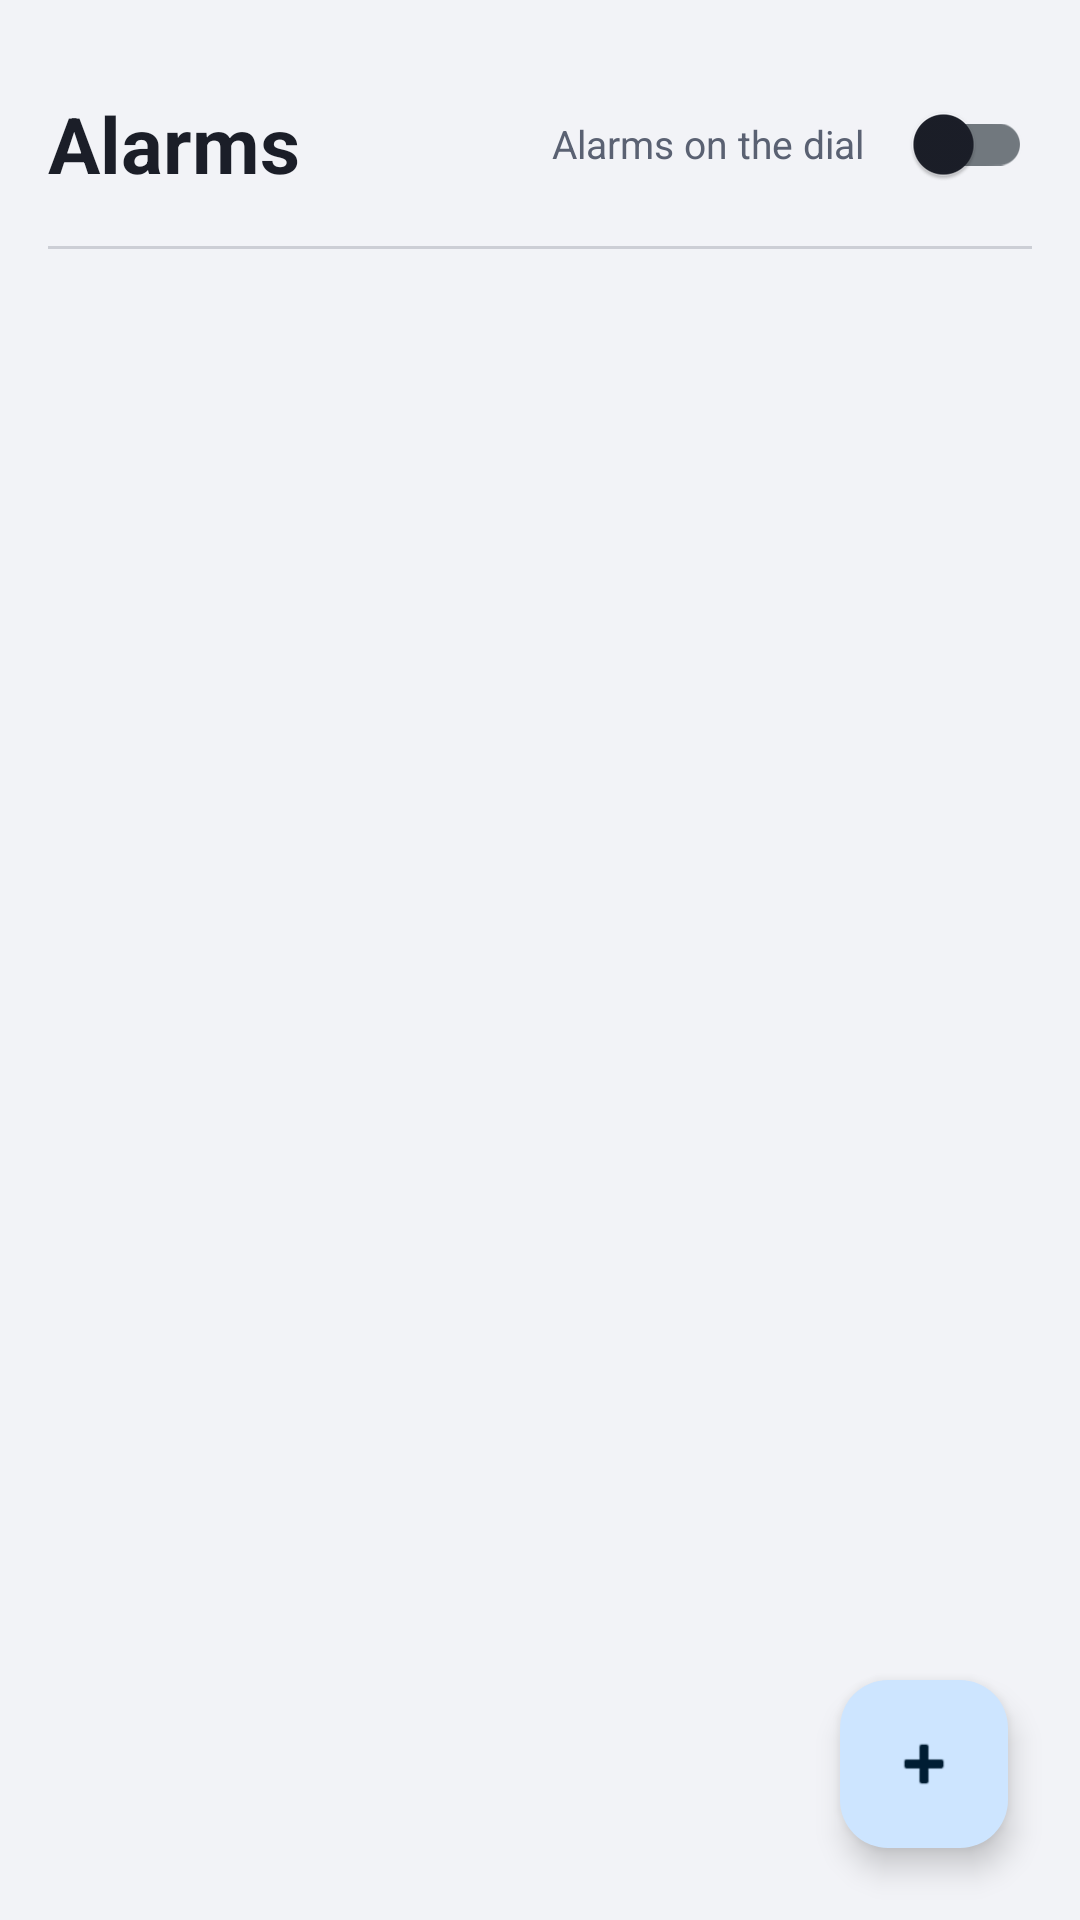

Named icons in this screenshot (1080px×1920px) and their bounding boxes, (x1, y1, x2, y2):
Add alarm: (840, 1680, 1008, 1848)
